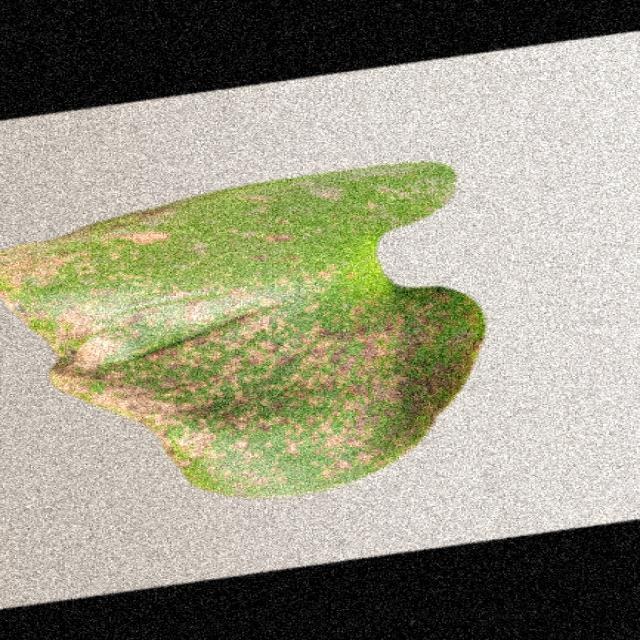daun berpenyakit bercak: (2, 164, 485, 496)
